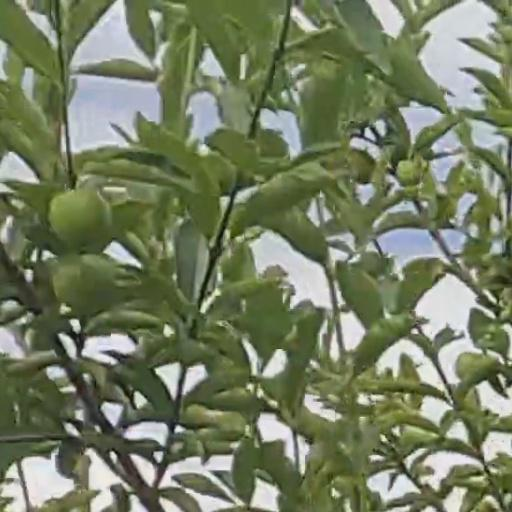acerola_verde: (50, 191, 111, 246), (58, 257, 113, 314)
